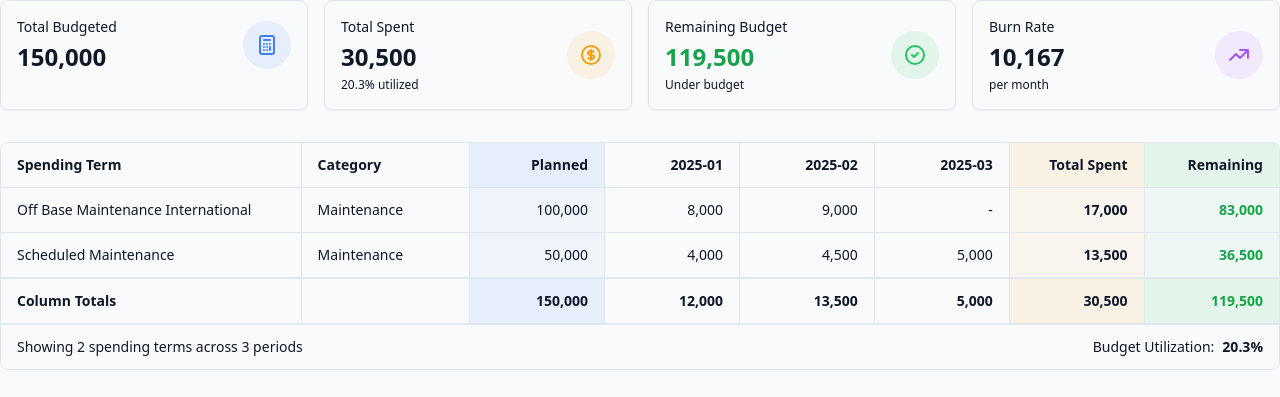
it: BudgetTable › Inline Editing - Planned Amount › should validate non-negative numbers for planned amount
The image size is (1280, 397).
Click the text "100,000" at (562, 210), box 536,200 -> 588,220
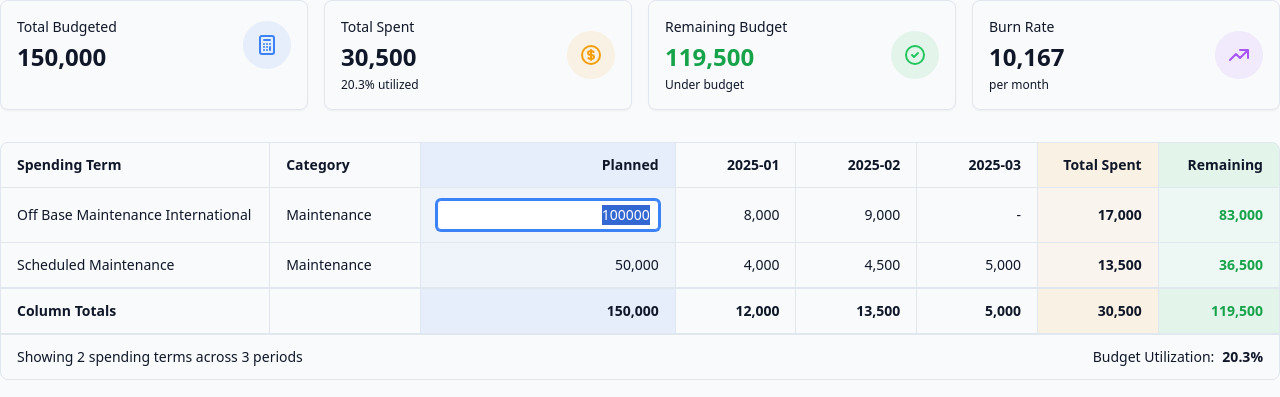
Replace the text in the field with "-500" at (548, 215), box 437,200 -> 659,230
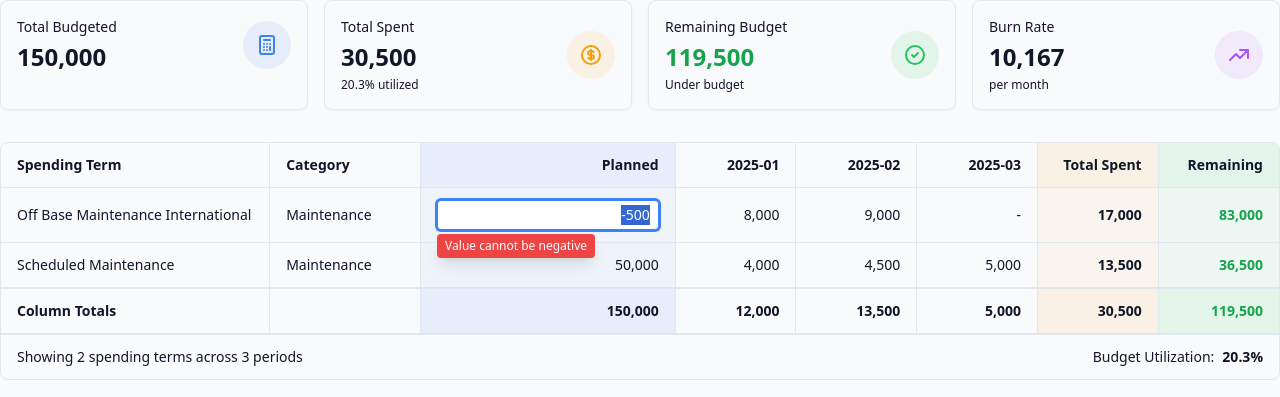
Now the text "Value cannot be negative" is shown, box 437,234 -> 595,258
